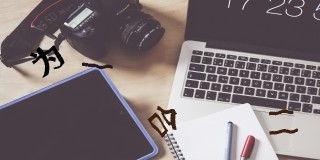一: (81, 61, 114, 71)
为: (29, 45, 67, 78)
二: (264, 106, 299, 136)
合: (148, 106, 177, 138)
